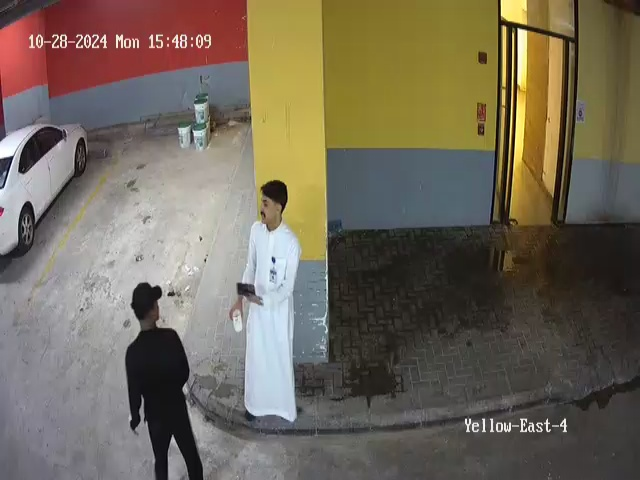male: (229, 179, 301, 426), (124, 282, 205, 480)
